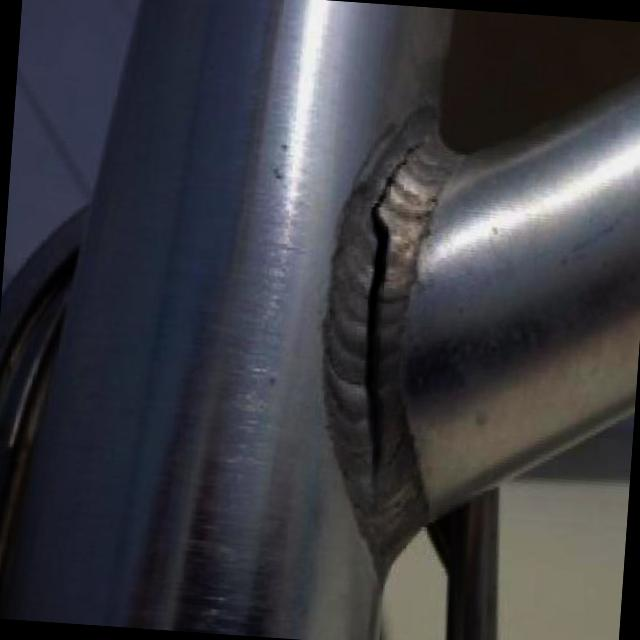crack: (353, 210, 398, 492), (379, 139, 424, 208)
